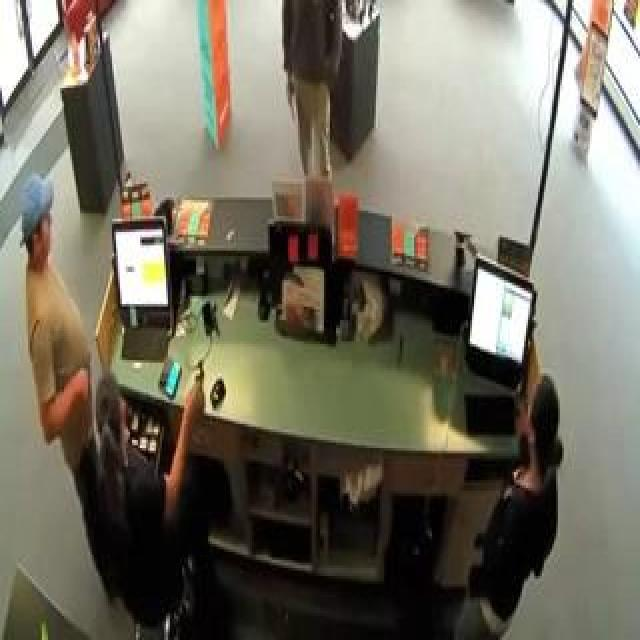low_con: (14, 170, 57, 281)
no_con: (525, 374, 569, 490), (92, 364, 130, 476)
